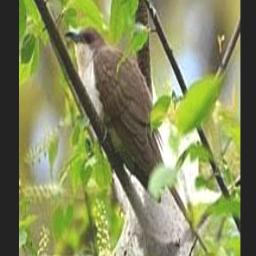Cuckoo: (65, 26, 207, 251)
